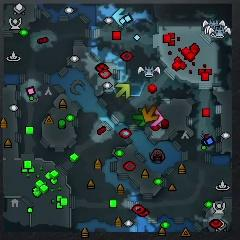x1: (150, 110, 163, 127)
x2: (113, 82, 132, 101)
x3: (112, 7, 131, 29)
x4: (132, 108, 145, 128)
x5: (140, 105, 159, 123)
